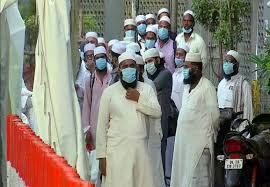mask: (119, 58, 139, 86), (181, 55, 200, 84), (220, 50, 236, 75), (122, 18, 137, 43), (93, 48, 108, 71), (144, 53, 159, 76), (174, 43, 187, 67), (180, 11, 193, 35), (143, 27, 157, 49), (157, 19, 169, 41), (135, 12, 147, 34)
